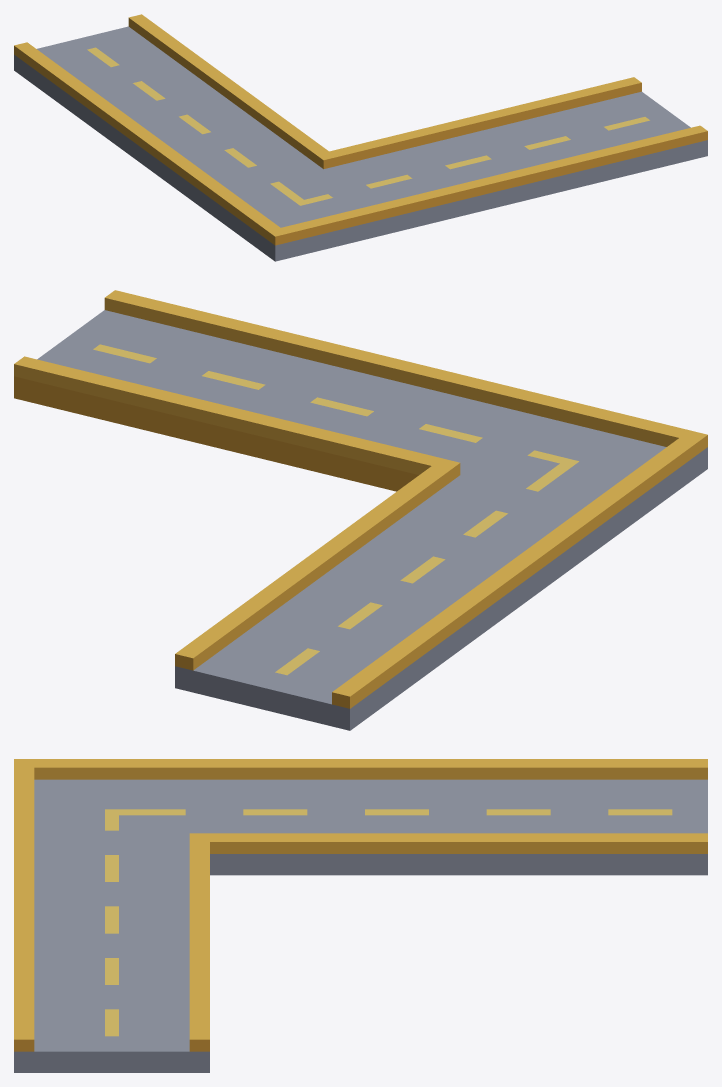
File: squidgame_props_road2.fbx
3 views of the same model, one above another, from view 1: azimuth 30°, elevation 25°; view 2: azimuth 150°, elevation 25°; view 3: azimuth 270°, elevation 25° (orthographic). The views are drawn at different scales.
Parts seen in each view (by area): view 1: squidgame_props_road2; view 2: squidgame_props_road2; view 3: squidgame_props_road2.
Part boxes in pixels (x1,y1,x2,y2): squidgame_props_road2: (14,14,707,261); squidgame_props_road2: (14,290,707,730); squidgame_props_road2: (14,759,707,1072).
Bounding box in the file's own units: 8.15 × 0.4497 × 8.52.
